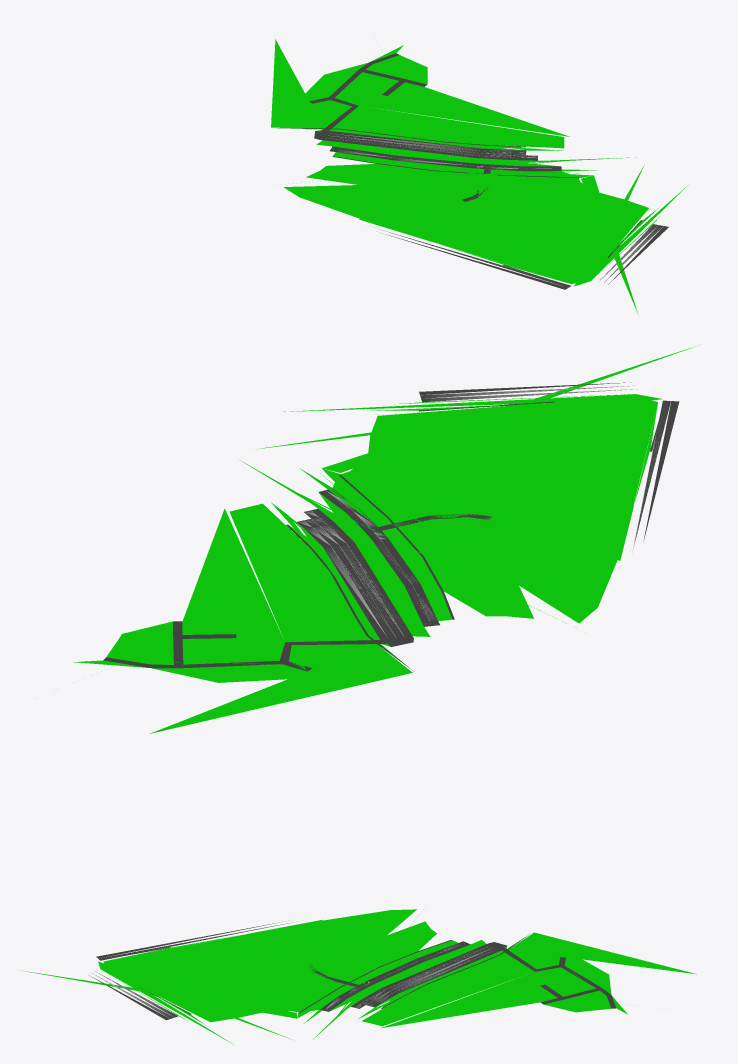
3 renders of one model, top to bottom at view 1: azimuth 30°, elevation 25°; view 2: azimuth 150°, elevation 25°; view 3: azimuth 270°, elevation 25°, orthographic. The views are drawn at different scales.
Bounding box in the file's own units: 296 × 2.3 × 478.
